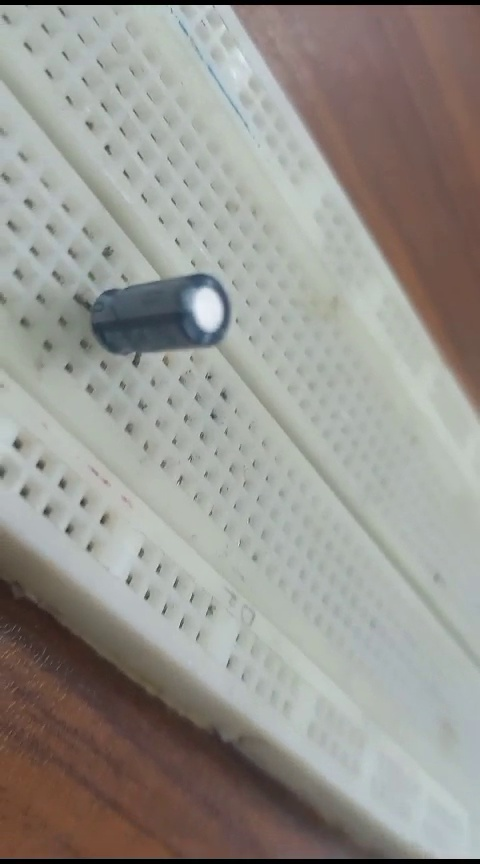capacitor: (78, 257, 235, 368)
